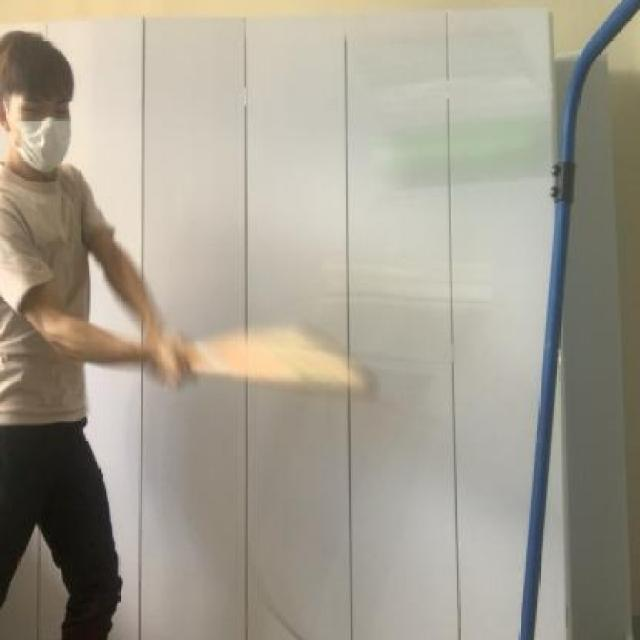baseball: (380, 106, 560, 191)
